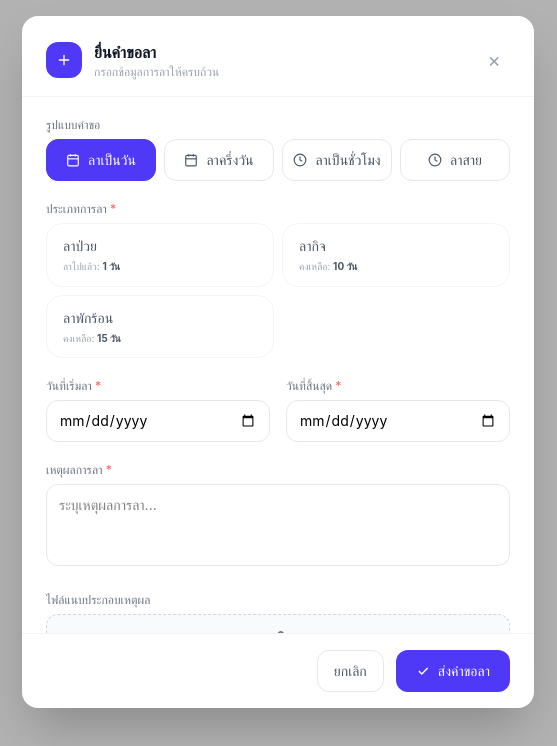
it: LeaveRequestModal — validation errors › error หายเมื่อกรอกข้อมูลครบหลัง submit ครั้งแรก
Click the button "ส่งคำขอลา": (453, 671) [396,650,510,692]
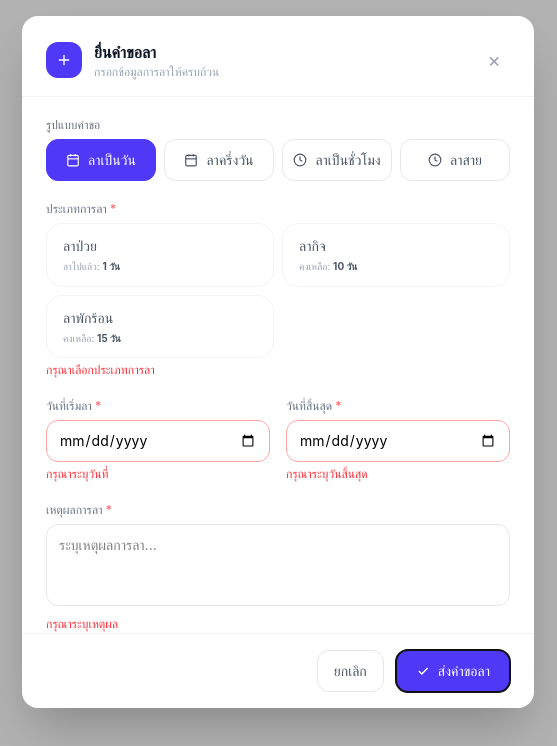
Check: the text "กรุณาระบุเหตุผล" is shown, box [46,616,118,631]
In the text box with placeholder "ระบุเหตุผลการลา...": (278, 565) [46,524,510,606], type "ป่วย"
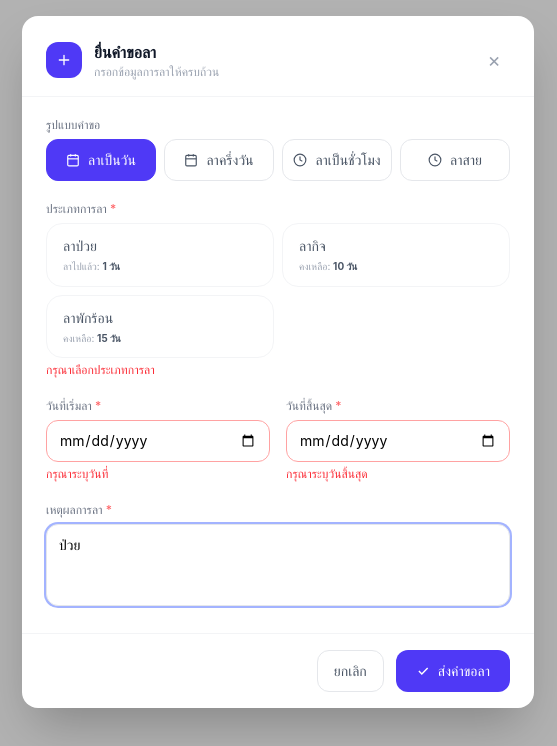
Check: the text "กรุณาระบุเหตุผล" is gone
